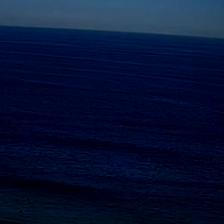surfer: (26, 200, 32, 205), (18, 209, 22, 213), (21, 212, 25, 216), (26, 198, 30, 201)
